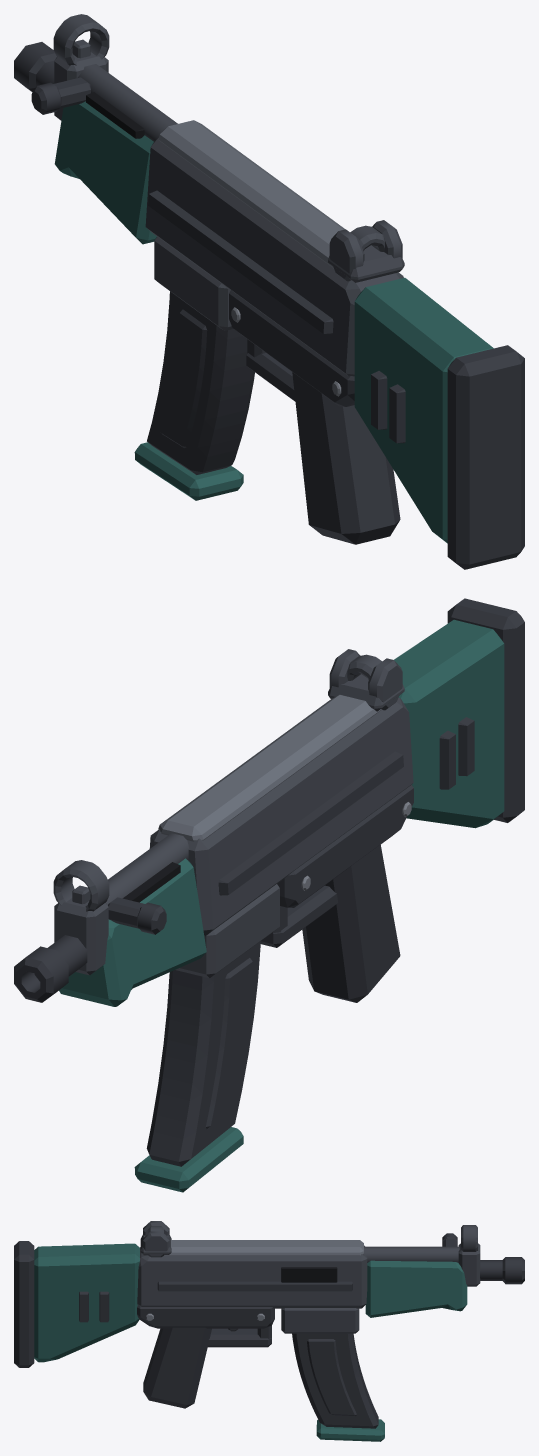
The model's file is w_smg.glb.
The picture shows the model from 3 angles, top to bottom: view 1: azimuth 30°, elevation 25°; view 2: azimuth 150°, elevation 25°; view 3: azimuth 270°, elevation 25°; orthographic projection. The views are drawn at different scales.
Visible parts, largest first — view 1: body_wzB, grip_wzB, stock_wzA, stock_wzB, mag_wzB, fore_wzA, cover_wzA, sight_wzN, body_wzN, mag_wzN, mark_wzN, barrel_wzB (+2 smaller); view 2: body_wzB, stock_wzA, grip_wzB, mag_wzB, cover_wzA, fore_wzA, sight_wzN, stock_wzB, body_wzN, barrel_wzB, mag_wzN, mark_wzN (+2 smaller); view 3: body_wzB, stock_wzA, grip_wzB, mag_wzB, fore_wzA, cover_wzA, stock_wzB, sight_wzN, body_wzN, barrel_wzB, mag_wzN, trim_wzN (+1 smaller).
Boxes of the visible parts, left/top/right/bottom form: body_wzB: left=77, top=64, right=403, bottom=376; grip_wzB: left=229, top=290, right=400, bottom=544; stock_wzA: left=354, top=277, right=493, bottom=543; stock_wzB: left=447, top=345, right=524, bottom=569; mag_wzB: left=147, top=291, right=254, bottom=474; fore_wzA: left=54, top=101, right=156, bottom=244; cover_wzA: left=158, top=120, right=344, bottom=268; sight_wzN: left=53, top=14, right=404, bottom=282; body_wzN: left=148, top=190, right=333, bottom=334; mag_wzN: left=134, top=442, right=243, bottom=500; mark_wzN: left=371, top=371, right=405, bottom=443; barrel_wzB: left=14, top=42, right=56, bottom=91; body_wzB: left=106, top=697, right=413, bottom=978; stock_wzA: left=394, top=619, right=504, bottom=828; grip_wzB: left=260, top=784, right=413, bottom=1002; mag_wzB: left=146, top=941, right=260, bottom=1166; cover_wzA: left=158, top=695, right=381, bottom=841; fore_wzA: left=59, top=858, right=206, bottom=1006; sight_wzN: left=53, top=649, right=404, bottom=975; stock_wzB: left=447, top=598, right=524, bottom=822; body_wzN: left=218, top=751, right=403, bottom=895; barrel_wzB: left=14, top=935, right=87, bottom=1002; mag_wzN: left=134, top=1127, right=243, bottom=1192; mark_wzN: left=439, top=717, right=474, bottom=789; body_wzB: left=137, top=1245, right=459, bottom=1333; stock_wzA: left=34, top=1243, right=139, bottom=1362; grip_wzB: left=137, top=1305, right=274, bottom=1408; mag_wzB: left=292, top=1333, right=378, bottom=1428; fore_wzA: left=365, top=1260, right=467, bottom=1317; cover_wzA: left=164, top=1240, right=363, bottom=1255; stock_wzB: left=14, top=1241, right=34, bottom=1367; sight_wzN: left=140, top=1221, right=480, bottom=1286; body_wzN: left=157, top=1281, right=352, bottom=1291; barrel_wzB: left=480, top=1257, right=524, bottom=1284; mag_wzN: left=316, top=1419, right=384, bottom=1441; trim_wzN: left=281, top=1267, right=337, bottom=1282.
Size of the model in its own units: 0.0837 by 0.296 by 0.654.
